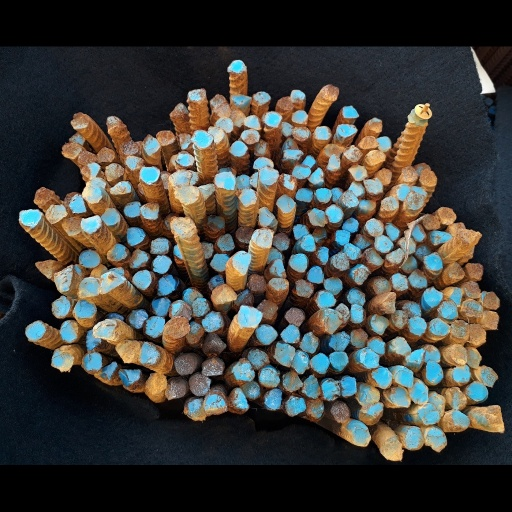dipstick: (53, 264, 77, 291), (227, 387, 249, 414), (319, 308, 343, 332), (185, 397, 207, 423), (146, 372, 166, 400), (99, 271, 123, 294), (118, 367, 142, 390), (202, 332, 226, 355), (379, 437, 404, 459), (483, 407, 505, 432), (114, 338, 137, 361), (204, 391, 227, 414), (266, 277, 289, 300), (238, 305, 262, 327), (98, 358, 119, 383), (165, 316, 190, 337), (210, 284, 235, 305), (409, 378, 429, 404), (23, 321, 46, 343), (81, 351, 103, 374), (232, 358, 255, 380), (189, 372, 210, 396), (274, 342, 295, 366), (456, 226, 480, 247), (450, 319, 470, 344), (348, 425, 370, 447), (426, 428, 448, 450), (76, 276, 99, 297), (168, 299, 191, 320), (210, 251, 231, 274), (255, 323, 278, 344), (446, 387, 467, 410), (393, 365, 414, 388), (50, 351, 74, 371), (73, 299, 97, 319), (171, 216, 192, 238), (466, 381, 488, 402), (417, 403, 439, 424), (375, 291, 397, 312), (139, 341, 159, 364), (145, 314, 165, 337), (231, 251, 251, 274), (253, 227, 273, 250), (285, 396, 308, 416), (314, 289, 337, 309), (404, 427, 424, 450), (389, 337, 412, 357), (459, 298, 482, 318), (349, 265, 372, 285), (44, 204, 68, 223), (17, 209, 42, 227), (248, 348, 269, 369), (257, 206, 278, 227), (266, 259, 287, 280), (331, 401, 352, 422), (61, 216, 83, 236), (131, 268, 151, 290), (165, 377, 185, 399), (300, 333, 320, 355), (361, 402, 381, 424), (477, 365, 497, 387), (34, 259, 57, 278), (93, 319, 116, 338), (447, 411, 470, 430), (186, 320, 204, 344), (264, 386, 282, 410), (59, 321, 79, 342), (203, 311, 223, 332), (330, 332, 351, 352), (309, 353, 329, 374), (320, 378, 340, 399), (389, 386, 410, 406), (467, 323, 487, 344), (428, 317, 449, 337), (141, 134, 160, 156), (81, 215, 103, 234), (79, 248, 101, 267), (150, 255, 172, 274), (241, 381, 263, 400), (177, 185, 200, 203), (372, 368, 390, 391), (348, 163, 368, 183), (308, 207, 328, 227), (282, 372, 302, 392), (448, 344, 468, 364), (407, 316, 427, 336), (423, 288, 443, 308), (258, 166, 279, 185), (52, 296, 71, 317), (191, 297, 210, 318), (258, 300, 279, 319), (259, 367, 280, 386), (214, 172, 236, 190), (138, 166, 160, 184), (201, 358, 223, 376), (237, 189, 259, 207), (284, 308, 306, 326), (69, 112, 92, 129), (292, 351, 309, 374), (34, 188, 54, 207), (128, 249, 148, 268), (107, 242, 126, 262), (140, 200, 160, 219), (183, 287, 203, 306), (175, 355, 194, 375), (247, 274, 267, 293), (288, 252, 307, 272), (421, 344, 441, 363), (480, 310, 499, 330), (341, 242, 362, 260), (327, 352, 348, 370), (306, 397, 324, 418), (438, 299, 459, 317), (371, 276, 392, 294), (364, 218, 386, 235), (336, 302, 350, 328), (364, 176, 383, 195), (156, 276, 175, 295), (206, 213, 225, 232), (324, 275, 343, 294), (332, 253, 351, 272), (369, 314, 388, 333), (348, 304, 367, 323), (438, 206, 457, 225), (320, 83, 340, 101), (253, 138, 271, 158), (95, 146, 115, 164), (127, 308, 147, 326), (281, 324, 299, 344), (359, 350, 379, 368), (444, 262, 464, 280), (365, 247, 385, 265), (152, 298, 171, 316), (125, 227, 144, 245), (234, 288, 253, 306), (310, 225, 329, 243), (295, 279, 314, 297), (303, 377, 321, 396), (429, 393, 447, 412), (405, 347, 424, 365), (307, 167, 324, 187), (105, 163, 125, 180), (101, 208, 121, 225), (340, 190, 360, 207), (465, 346, 482, 366), (407, 270, 427, 287), (383, 221, 400, 241), (335, 122, 356, 138), (85, 328, 101, 349), (276, 194, 297, 210), (340, 376, 356, 397), (414, 103, 432, 121), (445, 287, 463, 305), (156, 129, 175, 146), (374, 168, 393, 185), (235, 226, 254, 243), (314, 186, 331, 205), (452, 364, 471, 381), (481, 293, 500, 310), (391, 309, 408, 328), (61, 143, 81, 159), (192, 131, 212, 147), (277, 173, 297, 189), (423, 254, 443, 270), (405, 192, 425, 208), (211, 104, 232, 119), (105, 116, 126, 131), (207, 126, 225, 143), (401, 165, 418, 183), (216, 234, 234, 251), (265, 247, 282, 265), (299, 234, 316, 252), (308, 266, 325, 284), (403, 299, 421, 316), (463, 281, 481, 298), (391, 273, 409, 290), (466, 263, 484, 280), (374, 234, 392, 251), (358, 135, 377, 151), (263, 111, 282, 127), (343, 146, 362, 162), (421, 169, 437, 188), (228, 140, 247, 156), (149, 236, 168, 252), (273, 233, 289, 252), (326, 204, 342, 223), (361, 386, 380, 402), (351, 329, 367, 348), (398, 238, 417, 254), (171, 170, 191, 185), (81, 163, 101, 178), (81, 188, 101, 203), (232, 93, 253, 107), (342, 216, 359, 233), (423, 213, 440, 230), (199, 183, 215, 201), (381, 195, 399, 211), (241, 128, 260, 143), (198, 242, 213, 261), (431, 229, 450, 244), (245, 114, 262, 130), (123, 201, 140, 217), (295, 186, 312, 202), (348, 289, 365, 305), (416, 244, 432, 261), (375, 136, 393, 151), (175, 152, 193, 167), (121, 141, 139, 156), (314, 246, 329, 264), (291, 88, 307, 104), (314, 126, 330, 142), (335, 228, 351, 244), (400, 256, 416, 272), (276, 96, 293, 111), (230, 108, 245, 125), (170, 103, 187, 118), (324, 143, 341, 158), (326, 154, 341, 171), (70, 197, 87, 212), (207, 274, 224, 289), (293, 223, 308, 240), (368, 339, 385, 354), (282, 148, 303, 160), (365, 150, 386, 162), (348, 181, 366, 195), (355, 235, 373, 249), (292, 164, 311, 177), (254, 157, 273, 170), (343, 104, 358, 120), (188, 88, 204, 103), (216, 118, 232, 133), (414, 161, 430, 176), (387, 248, 403, 263), (291, 111, 308, 125), (291, 126, 308, 140), (369, 115, 382, 133), (331, 185, 344, 203), (359, 198, 377, 211), (178, 133, 192, 149), (126, 157, 144, 169), (228, 59, 243, 73), (397, 185, 411, 200), (235, 174, 250, 188), (86, 178, 107, 188), (77, 151, 96, 162), (279, 121, 292, 137), (253, 91, 269, 103), (210, 94, 227, 105), (448, 222, 465, 233), (302, 155, 316, 168), (64, 193, 78, 206), (174, 245, 187, 259), (69, 134, 87, 143), (283, 138, 296, 149), (250, 173, 261, 185), (190, 170, 199, 183)
